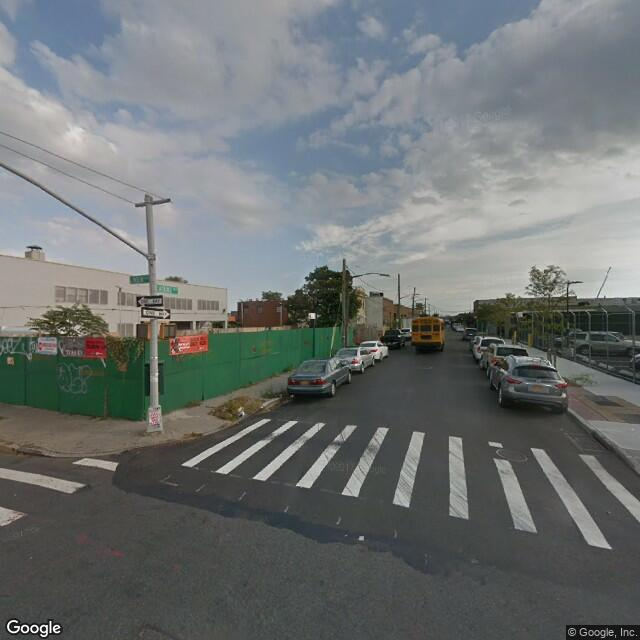litter: (237, 407, 246, 418), (357, 534, 367, 538)
